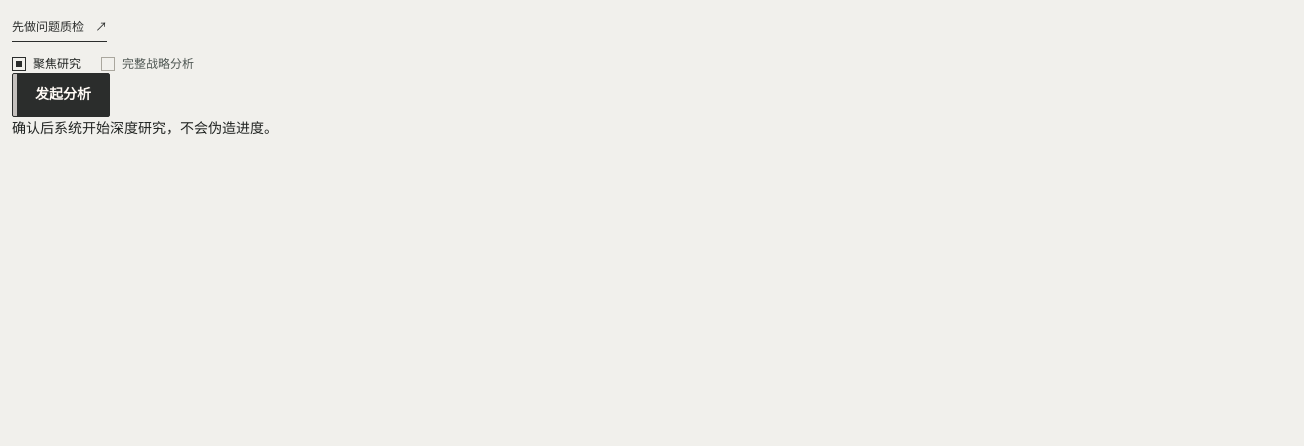
Test: AnalysisLaunchPanel › blocked guidance shows validator reasons and hides a passed gate
Click the button "发起分析" at (61, 95), box [12,73,110,117]
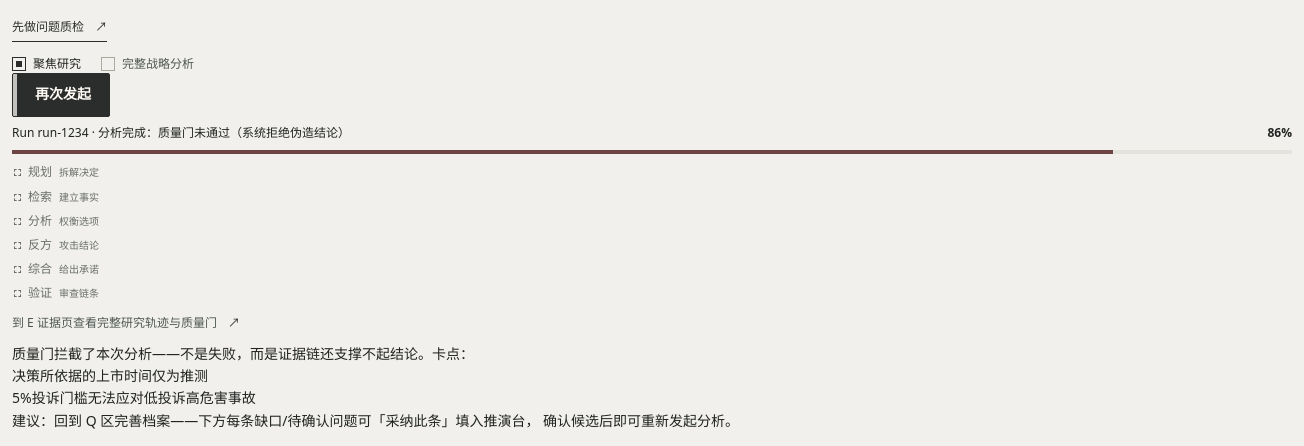
Result: the element that starts with "质量门拦截了本次分析——不是失败，而是证据链还支撑不起结论。卡点：" is shown at [12,344,739,430]
Result: the element that starts with "质量门拦截了本次分析——不是失败，而是证据链还支撑不起结论。卡点：" shows "决策所依据的上市时间仅为推测" at [12,366,208,385]
Result: the element that starts with "质量门拦截了本次分析——不是失败，而是证据链还支撑不起结论。卡点：" shows "5%投诉门槛无法应对低投诉高危害事故" at [12,388,256,407]
